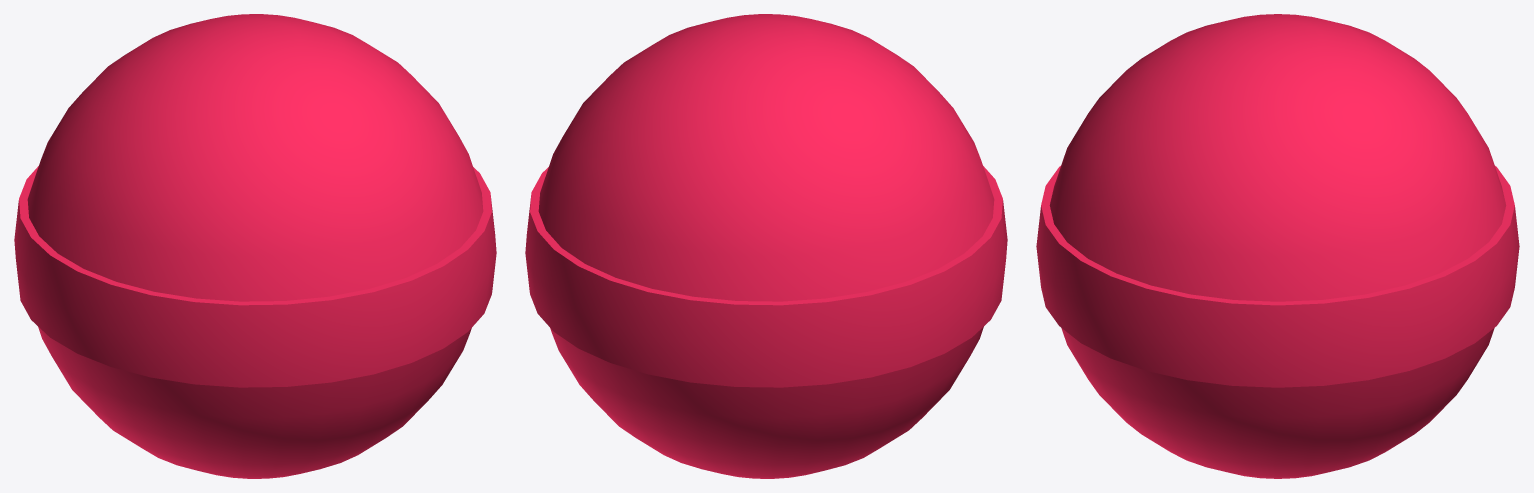
File: Loli-Pink-Kugel-CW.gltf
The picture shows the model from 3 angles, left to right: view 1: azimuth 30°, elevation 25°; view 2: azimuth 150°, elevation 25°; view 3: azimuth 270°, elevation 25°; orthographic projection.
Parts seen in each view (by area): view 1: Loli-Pink-Kugel-CW; view 2: Loli-Pink-Kugel-CW; view 3: Loli-Pink-Kugel-CW.
Boxes of the visible parts, x1,y1,x2,y2 form: Loli-Pink-Kugel-CW: (14, 14, 496, 478); Loli-Pink-Kugel-CW: (525, 14, 1007, 478); Loli-Pink-Kugel-CW: (1036, 14, 1519, 478).
Bounding box in the file's own units: 1.37 × 1.32 × 1.37.
